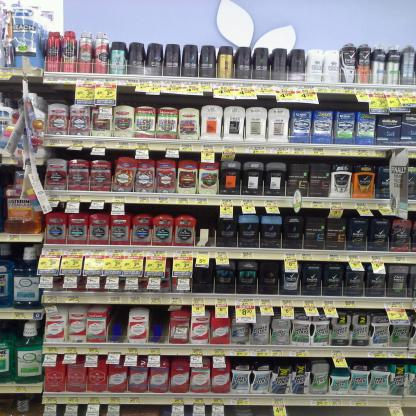Void: (196, 205, 214, 245), (149, 309, 168, 338), (108, 308, 122, 340), (193, 268, 209, 292)
